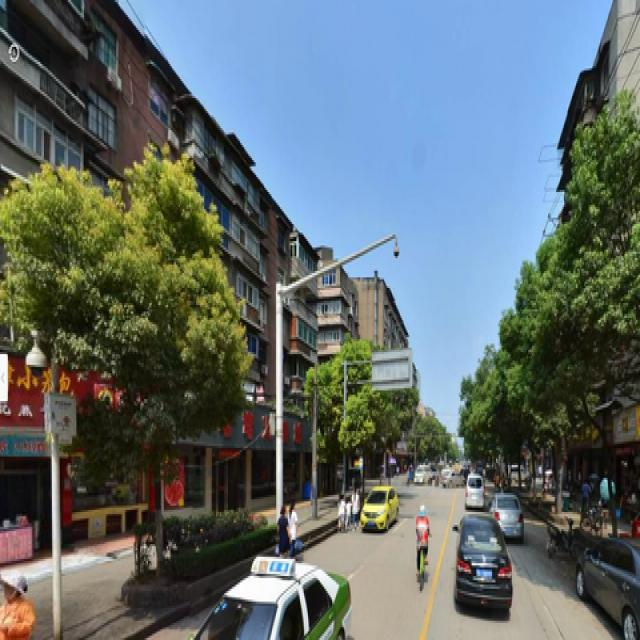cinn: (117, 179, 200, 559)
